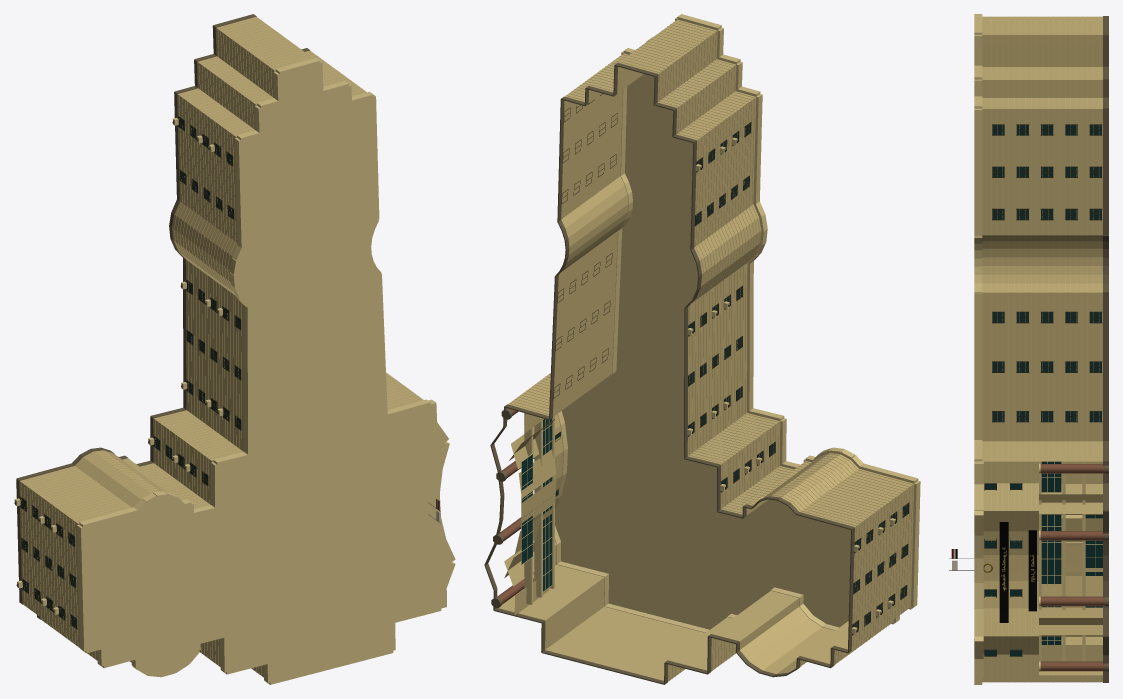
Rendered from SM_Administration.obj.
3 views of the same model, side by side, from view 1: azimuth 30°, elevation 25°; view 2: azimuth 150°, elevation 25°; view 3: azimuth 270°, elevation 25° (orthographic).
Parts seen in each view (by area): view 1: part_4_0, part_5_0, part_7_377, part_7_650, part_7_242; view 2: part_5_0, part_4_0, part_7_377, part_8_83, part_7_1170, part_7_650, part_8_84, part_7_242, part_7_44; view 3: part_5_0, part_8_83, part_7_44, part_7_220, part_1_0, part_6_3, part_6_11, part_2_0, part_12_1, part_12_0, part_8_84, part_12_3 (+6 smaller).
Boxes of the visible parts, box(x1,y1,x2,y2) form: part_4_0: box(83, 63, 449, 681); part_5_0: box(19, 16, 423, 677); part_7_377: box(243, 305, 250, 457); part_7_650: box(77, 524, 86, 651); part_7_242: box(235, 138, 244, 248); part_5_0: box(498, 19, 914, 681); part_4_0: box(555, 74, 850, 629); part_7_377: box(747, 261, 753, 410); part_8_83: box(543, 418, 551, 591); part_7_1170: box(534, 420, 542, 597); part_7_650: box(911, 481, 920, 607); part_8_84: box(522, 454, 532, 563); part_7_242: box(753, 94, 762, 204); part_7_44: box(612, 228, 622, 373); part_5_0: box(982, 16, 1102, 682); part_8_83: box(1041, 461, 1061, 644); part_7_44: box(974, 292, 982, 439); part_7_220: box(974, 108, 982, 236); part_1_0: box(999, 522, 1008, 622); part_6_3: box(1103, 292, 1108, 440); part_6_11: box(1103, 109, 1108, 235); part_2_0: box(1028, 530, 1036, 611); part_12_1: box(1040, 596, 1104, 606); part_12_0: box(1040, 661, 1104, 671); part_8_84: box(1085, 515, 1102, 607); part_12_3: box(1040, 464, 1104, 473).
Bounding box in the file's own units: 6059 × 9382 × 2200.
Materials: 15 (2 with a texture image).
